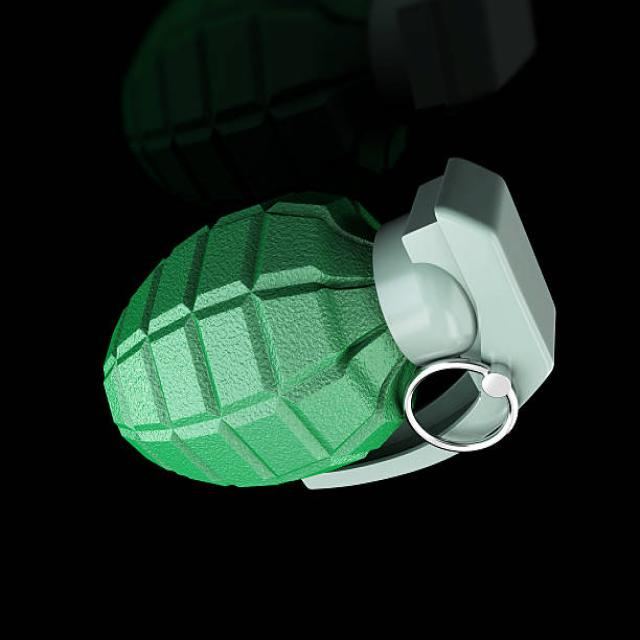grenade: (98, 153, 568, 500)
